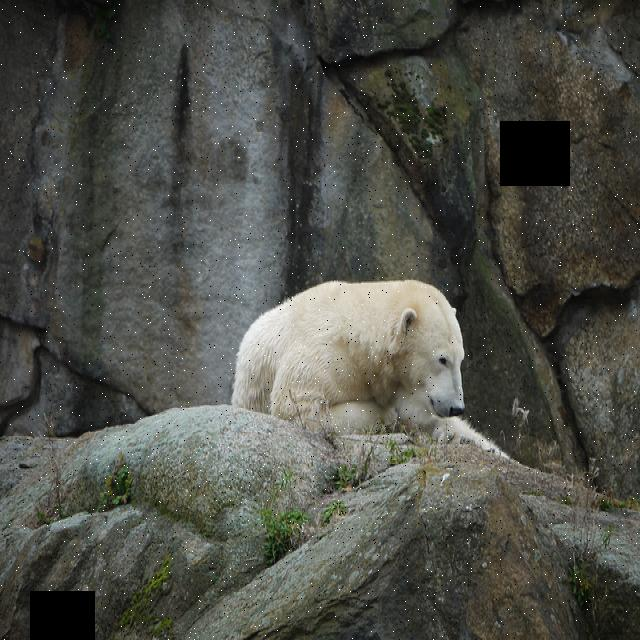Bear: (222, 268, 498, 454)
